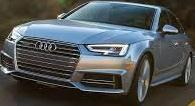Cars: (1, 3, 193, 105)
